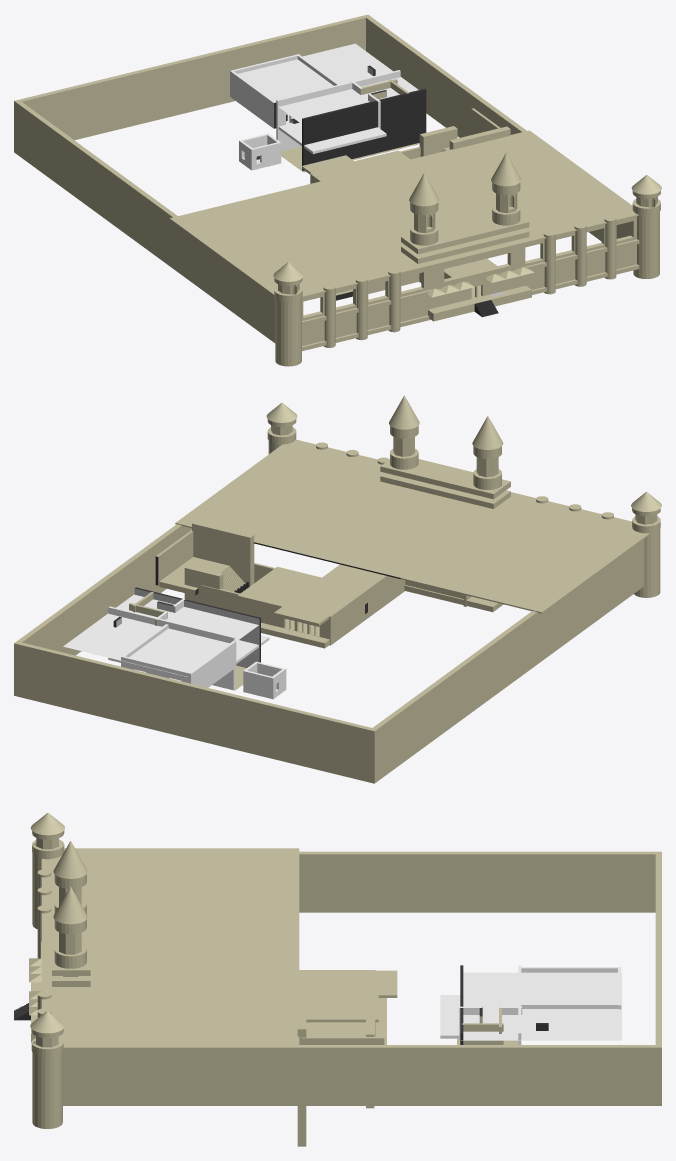
File: cleanClassroom, stairs & bedroom.fbx
3 renders of one model, top to bottom at view 1: azimuth 30°, elevation 25°; view 2: azimuth 150°, elevation 25°; view 3: azimuth 270°, elevation 25°, orthographic. The views are drawn at different scales.
Parts seen in each view (by area): view 1: loganswhitebox, LevelMesh; view 2: loganswhitebox, LevelMesh; view 3: loganswhitebox, LevelMesh.
Part boxes in pixels (bbox=[...]): loganswhitebox: bbox=[14, 14, 661, 366]; LevelMesh: bbox=[230, 43, 426, 172]; loganswhitebox: bbox=[14, 395, 661, 783]; LevelMesh: bbox=[63, 581, 367, 699]; loganswhitebox: bbox=[14, 813, 661, 1146]; LevelMesh: bbox=[440, 965, 621, 1044].
Size of what is drawn, in the model's own units: 15632 by 20130 by 6945.
